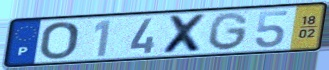1: (93, 19, 113, 58)
4: (128, 17, 157, 55)
5: (253, 9, 290, 49)
G: (207, 11, 251, 52)
O: (38, 20, 81, 61)
X: (161, 12, 211, 55)
